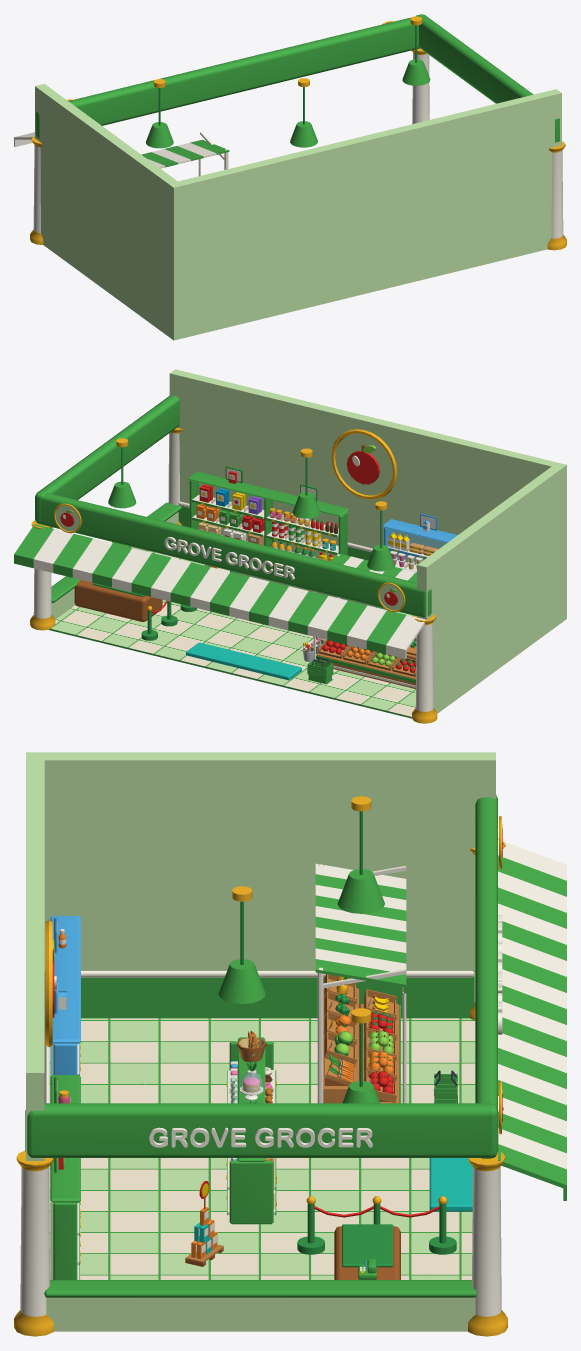
Rendered from grove_grocer.glb.
The picture shows the model from 3 angles, top to bottom: view 1: azimuth 30°, elevation 25°; view 2: azimuth 150°, elevation 25°; view 3: azimuth 270°, elevation 25°; orthographic projection. The views are drawn at different scales.
Parts seen in each view (by area): view 1: Shop_Grocer_Back_Wall, Shop_Grocer_Side_Wall, Shop_Grocer_Front_Canopy, Shop_Grocer_Shell, M_Grocer_Produce, Grocer_Pendant_Shade_0, Grocer_Pendant_Shade_2, Grocer_Pendant_Shade_1; view 2: Shop_Grocer_Front_Canopy, Shop_Grocer_Back_Wall, Shop_Grocer_Side_Wall, Shop_Grocer_Shell, M_Grocer_Pantry, M_Grocer_Produce, M_Grocer_Chilled, Refined_Checkout_Base, Refined_Grocer_Entry_Mat, Grocer_Pendant_Shade_2, M_Grocer_Front, Grocer_Pendant_Shade_0 (+1 smaller); view 3: Shop_Grocer_Side_Wall, Shop_Grocer_Shell, Shop_Grocer_Front_Canopy, M_Grocer_Produce, Shop_Grocer_Back_Wall, M_Grocer_Aisle, M_Grocer_Pantry, M_Grocer_Chilled, Refined_Grocer_Entry_Mat, Refined_Checkout_Belt, Grocer_Pendant_Shade_0, Grocer_Pendant_Shade_1 (+3 smaller).
Boxes of the visible parts, x1=… form: Shop_Grocer_Back_Wall: x1=168, y1=89, x2=561, y2=340; Shop_Grocer_Side_Wall: x1=35, y1=84, x2=177, y2=335; Shop_Grocer_Front_Canopy: x1=14, y1=14, x2=559, y2=146; Shop_Grocer_Shell: x1=30, y1=48, x2=566, y2=250; M_Grocer_Produce: x1=141, y1=132, x2=229, y2=176; Grocer_Pendant_Shade_0: x1=146, y1=122, x2=173, y2=148; Grocer_Pendant_Shade_2: x1=402, y1=59, x2=430, y2=85; Grocer_Pendant_Shade_1: x1=290, y1=121, x2=317, y2=147; Shop_Grocer_Front_Canopy: x1=14, y1=395, x2=431, y2=658; Shop_Grocer_Back_Wall: x1=169, y1=369, x2=566, y2=622; Shop_Grocer_Side_Wall: x1=417, y1=466, x2=561, y2=713; Shop_Grocer_Shell: x1=30, y1=427, x2=437, y2=723; M_Grocer_Pantry: x1=188, y1=466, x2=348, y2=561; M_Grocer_Produce: x1=302, y1=553, x2=416, y2=689; M_Grocer_Chilled: x1=382, y1=513, x2=457, y2=572; Refined_Checkout_Base: x1=74, y1=580, x2=162, y2=621; Refined_Grocer_Entry_Mat: x1=186, y1=642, x2=301, y2=680; Grocer_Pendant_Shade_2: x1=108, y1=481, x2=136, y2=508; M_Grocer_Front: x1=307, y1=657, x2=333, y2=684; Grocer_Pendant_Shade_0: x1=367, y1=545, x2=395, y2=571; Shop_Grocer_Side_Wall: x1=44, y1=752, x2=495, y2=1018; Shop_Grocer_Shell: x1=14, y1=838, x2=507, y2=1336; Shop_Grocer_Front_Canopy: x1=25, y1=795, x2=566, y2=1200; M_Grocer_Produce: x1=315, y1=863, x2=406, y2=1103; Shop_Grocer_Back_Wall: x1=26, y1=752, x2=56, y2=1210; M_Grocer_Aisle: x1=226, y1=1030, x2=276, y2=1224; M_Grocer_Pantry: x1=50, y1=1075, x2=80, y2=1279; M_Grocer_Chilled: x1=50, y1=916, x2=80, y2=1076; Refined_Grocer_Entry_Mat: x1=429, y1=1158, x2=472, y2=1211; Refined_Checkout_Belt: x1=342, y1=1224, x2=393, y2=1267; Grocer_Pendant_Shade_0: x1=337, y1=869, x2=384, y2=913; Grocer_Pendant_Shade_1: x1=218, y1=959, x2=265, y2=1003.
Size of the model in its own units: 12.48 by 4.96 by 8.82.
Materials: 33 (1 with a texture image).
